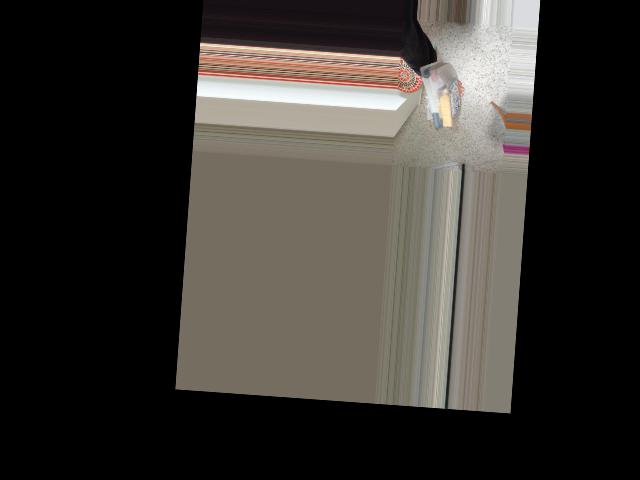cheese: (410, 60, 464, 133)
